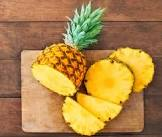Pineapple: (31, 3, 105, 97)
